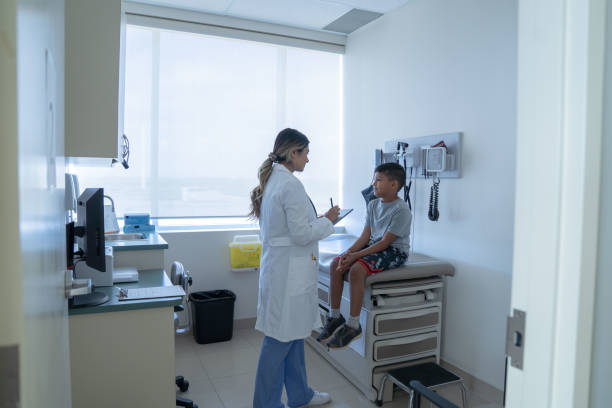cabinet: (63, 9, 137, 162)
chair: (173, 258, 201, 408)
computer: (68, 185, 114, 306)
counter: (76, 261, 185, 308), (79, 216, 166, 249)
door_handle: (63, 267, 92, 303)
exam_table: (320, 232, 457, 408)
handle: (122, 135, 130, 161)
medical_waste_container: (227, 234, 263, 272)
patient: (314, 162, 413, 351)
sink: (106, 232, 149, 239)
staff: (250, 127, 342, 408)
waste_bin: (189, 288, 238, 344)
